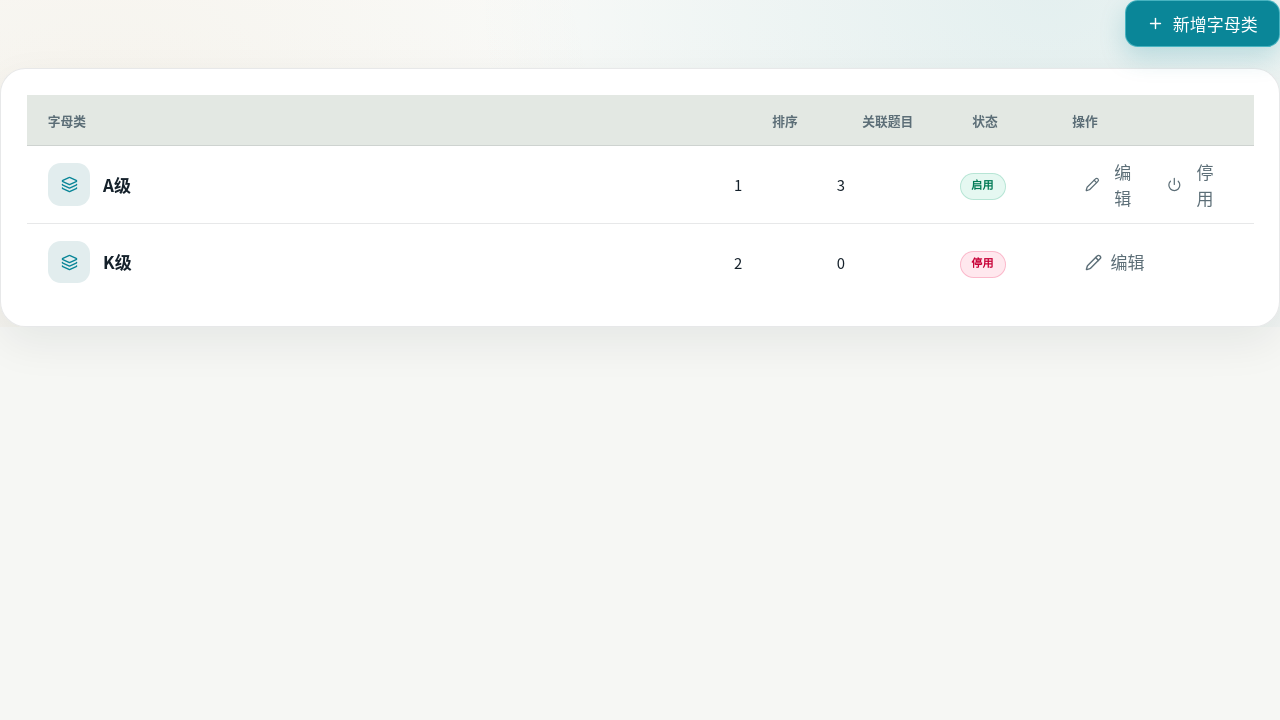
LevelManager › shows API conflicts without refreshing
The width and height of the screenshot is (1280, 720).
Click the button "编辑" next to "启用": (1111, 185) x1=1072 y1=166 x2=1150 y2=204
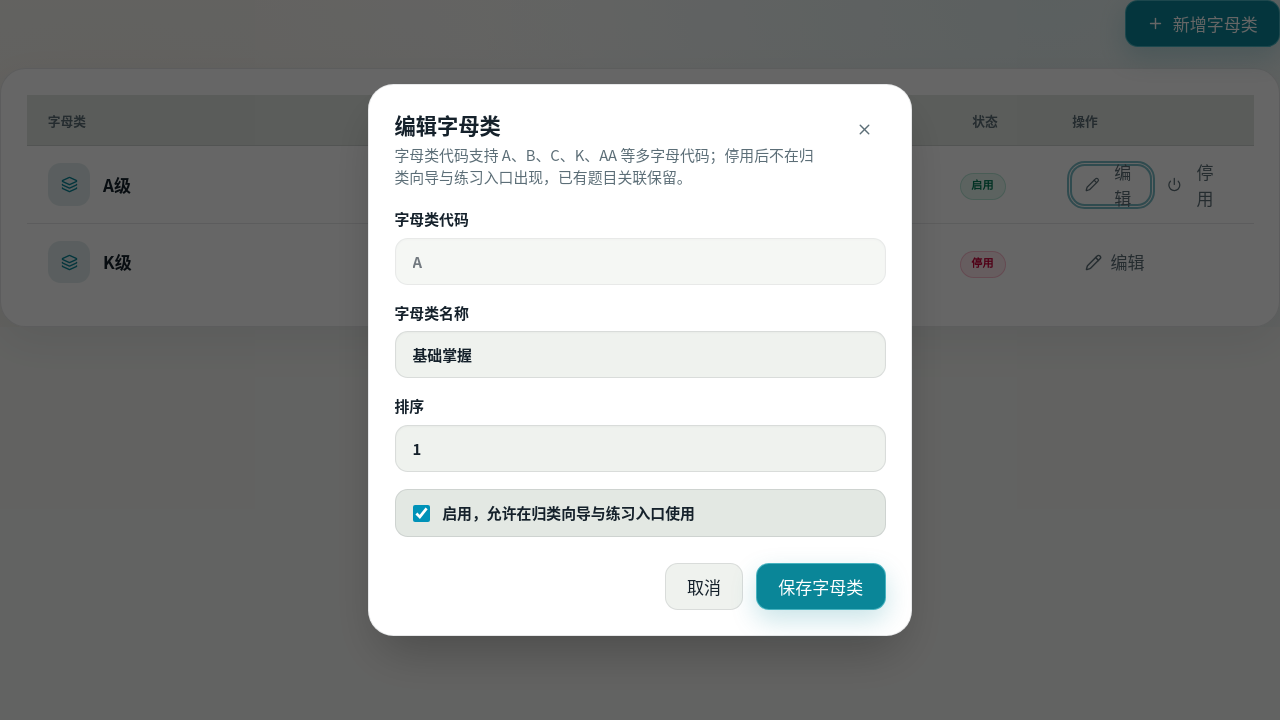
Click the button "保存字母类": (821, 586) x1=756 y1=563 x2=886 y2=610
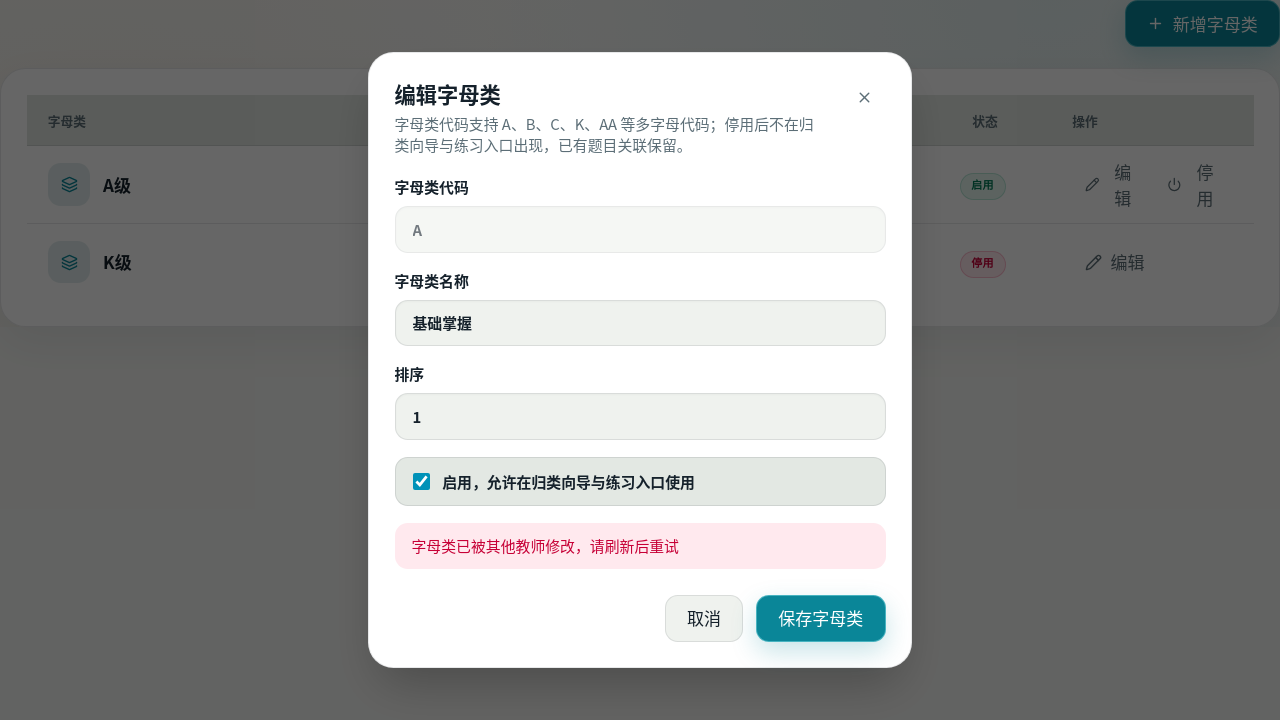
Expected: the message reads "字母类已被其他教师修改，请刷新后重试", x1=412 y1=535 x2=679 y2=556
